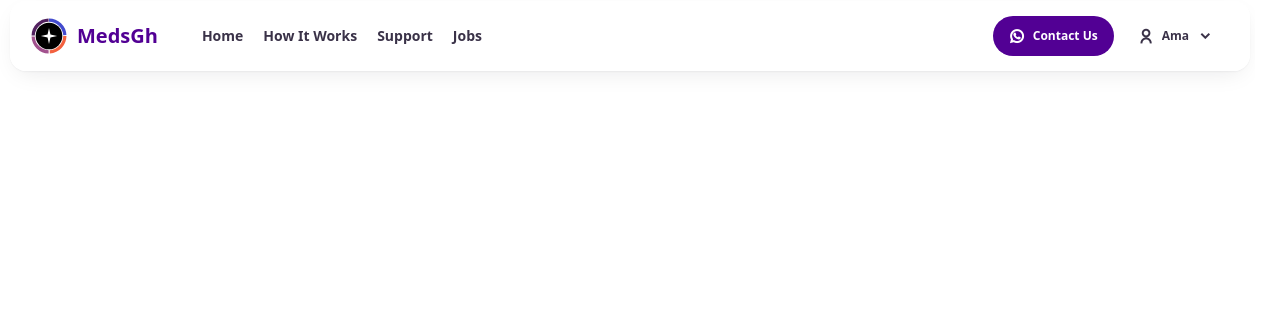
Navbar: signed-in customer › opens a menu with full name, formatted phone, and account links
What coordinates should you click on to do the following:
click the button "Ama"
I would click on:
 (1175, 36)
Its box is [1122,16,1229,56].
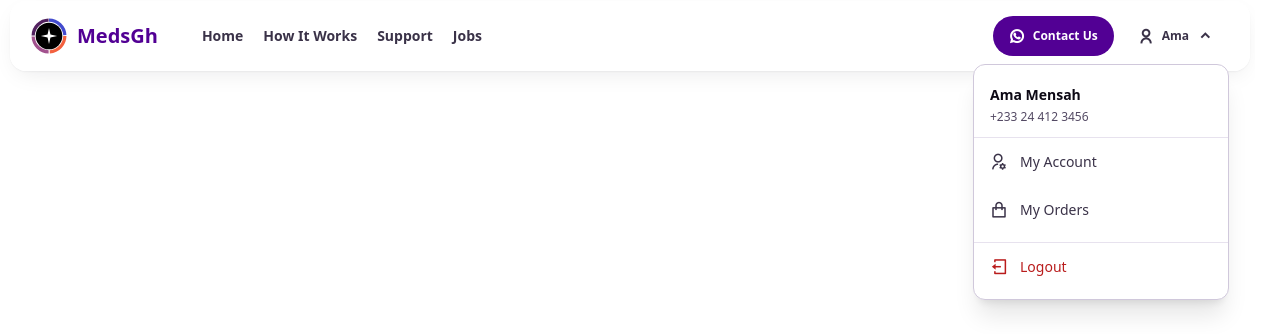
Expected: the element showing "Ama Ama Mensah +233 24 412 3456 My Account My Orders Logout" is shown, [1122,16,1229,56]
